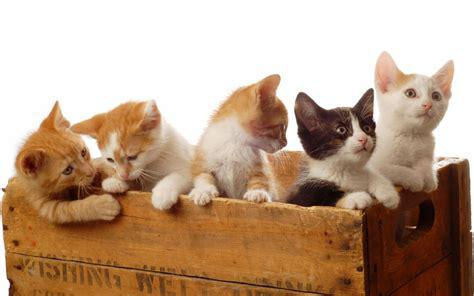cat: (69, 100, 198, 212), (286, 89, 399, 208), (189, 73, 288, 205), (14, 101, 120, 223), (373, 49, 454, 192)
